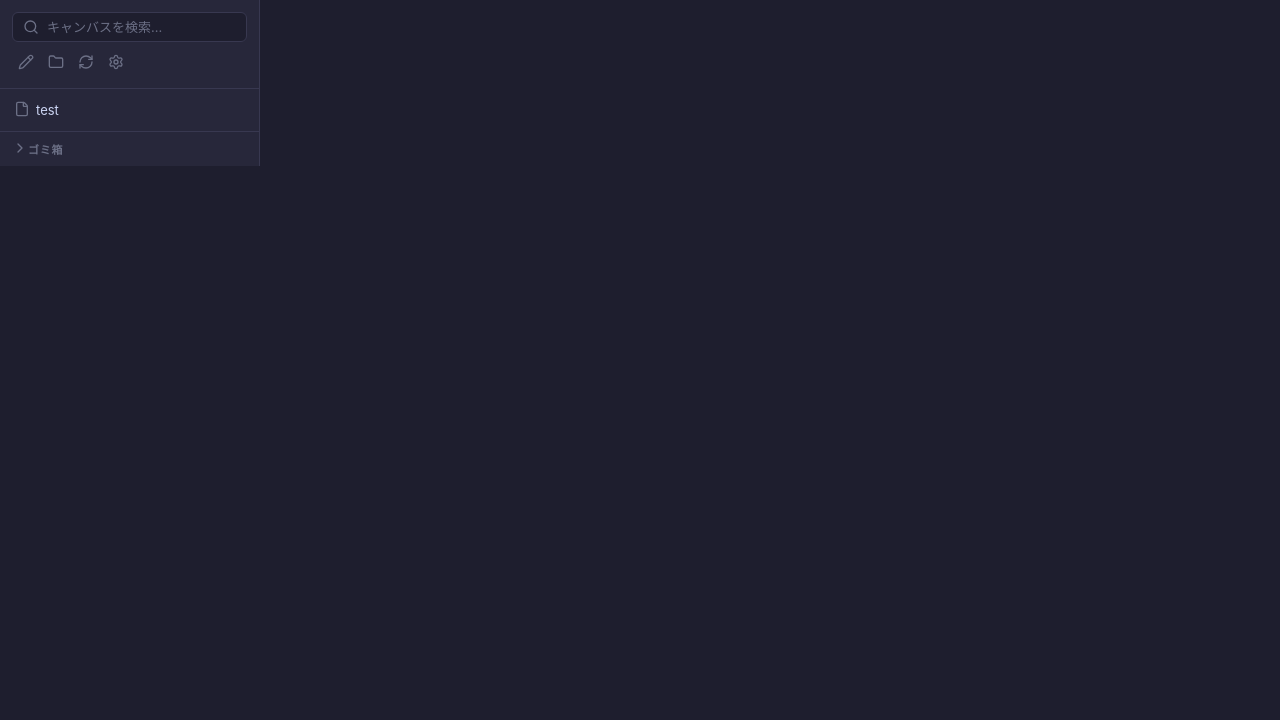
Test: Sidebar › コンテキストメニュー › 外側をクリックするとコンテキストメニューが閉じる
The width and height of the screenshot is (1280, 720).
Right-click the text "test" at (36, 110), box [14, 101, 59, 118]
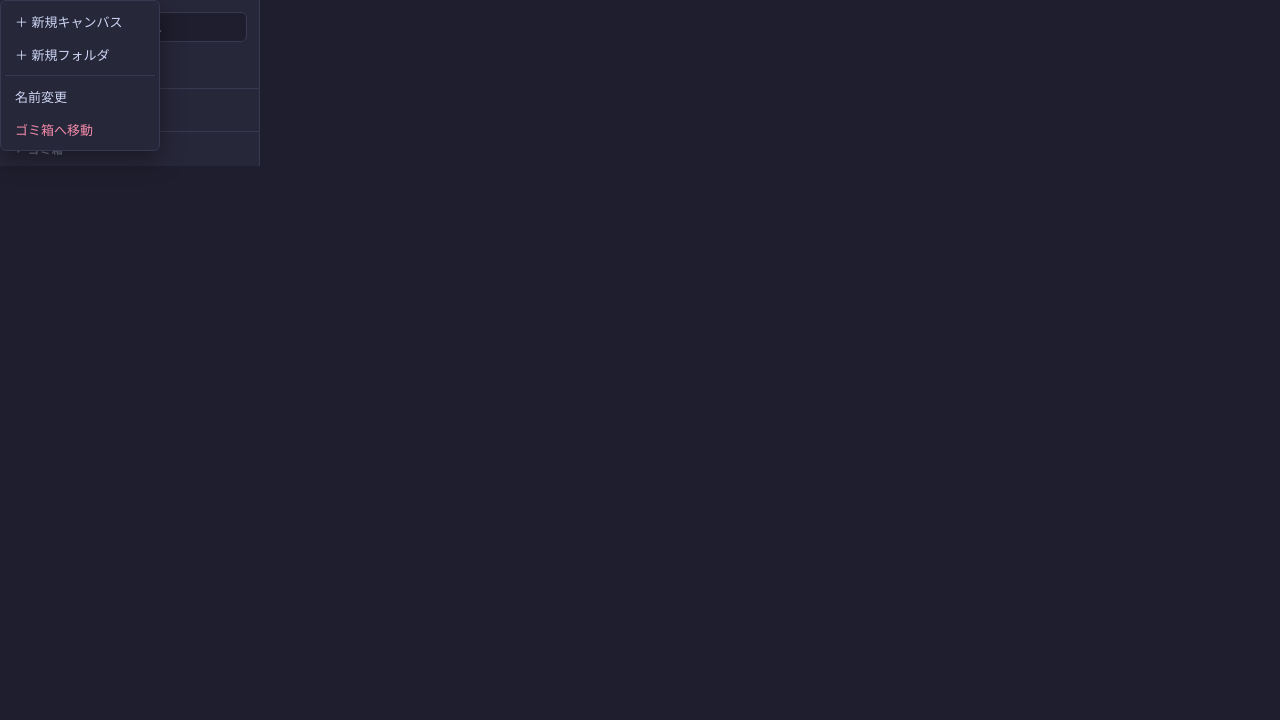
Expected: the button "名前変更" is shown, [5, 80, 155, 113]
Press the mouse on the element showing "test ゴミ箱 ＋ 新規キャンバス ＋ 新規フォルダ 名前変更 ゴミ箱へ移動" at (640, 360), box [0, 0, 1279, 719]
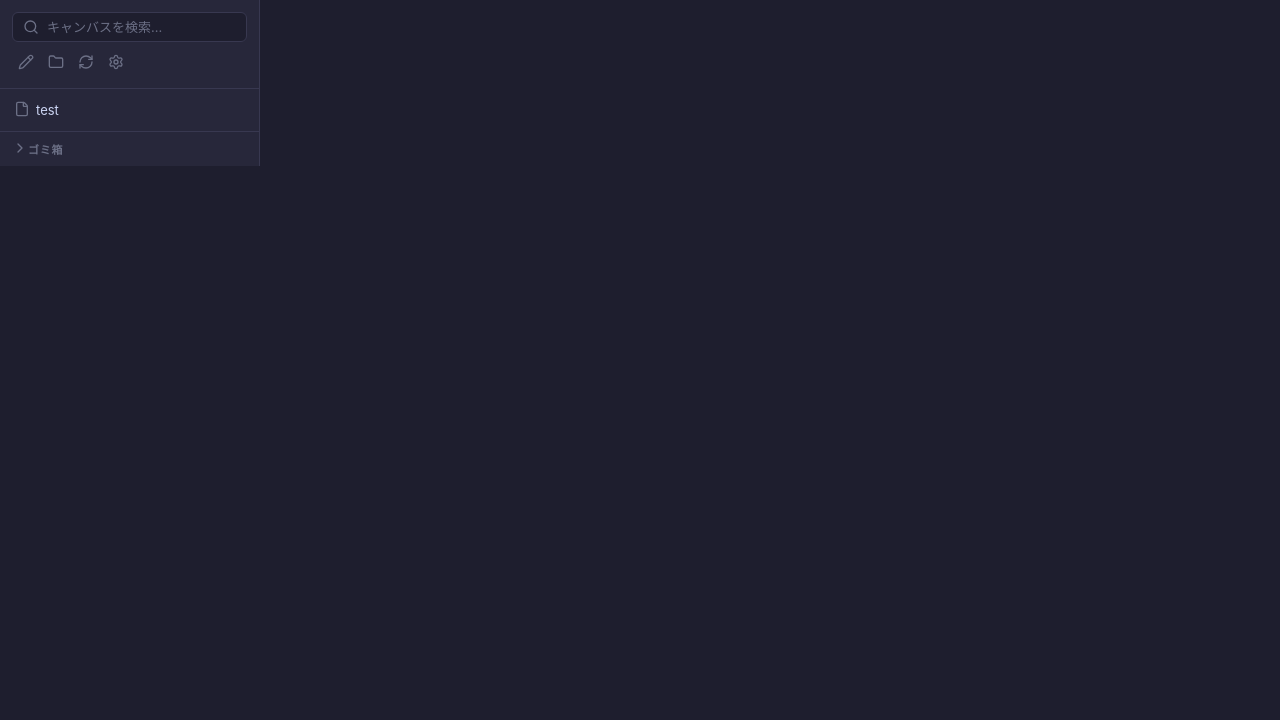
Expected: the button "名前変更" is gone
